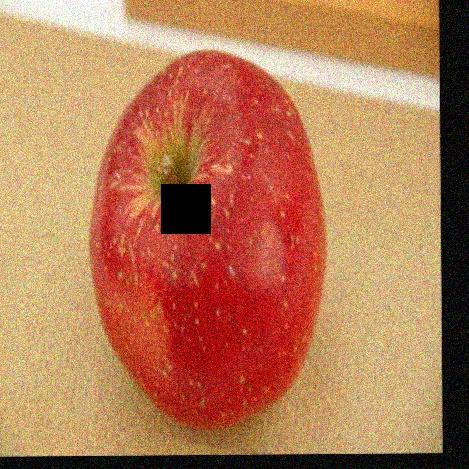red apple: (86, 47, 329, 428)
